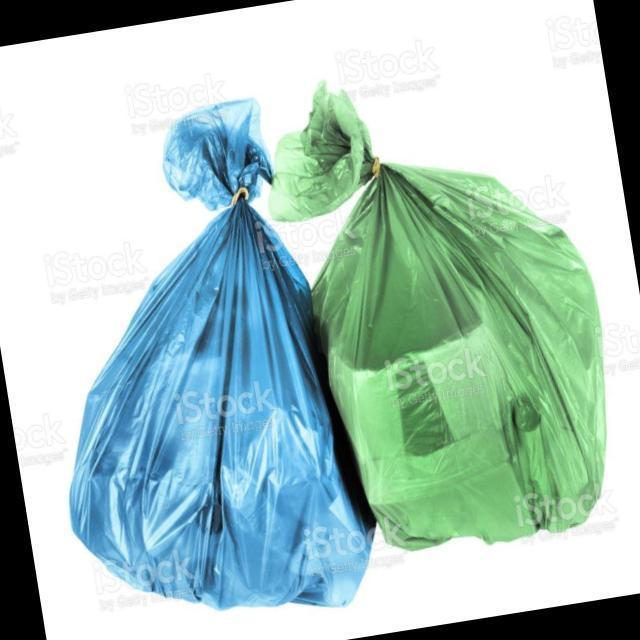Garbage_Bag: (286, 60, 632, 565)
